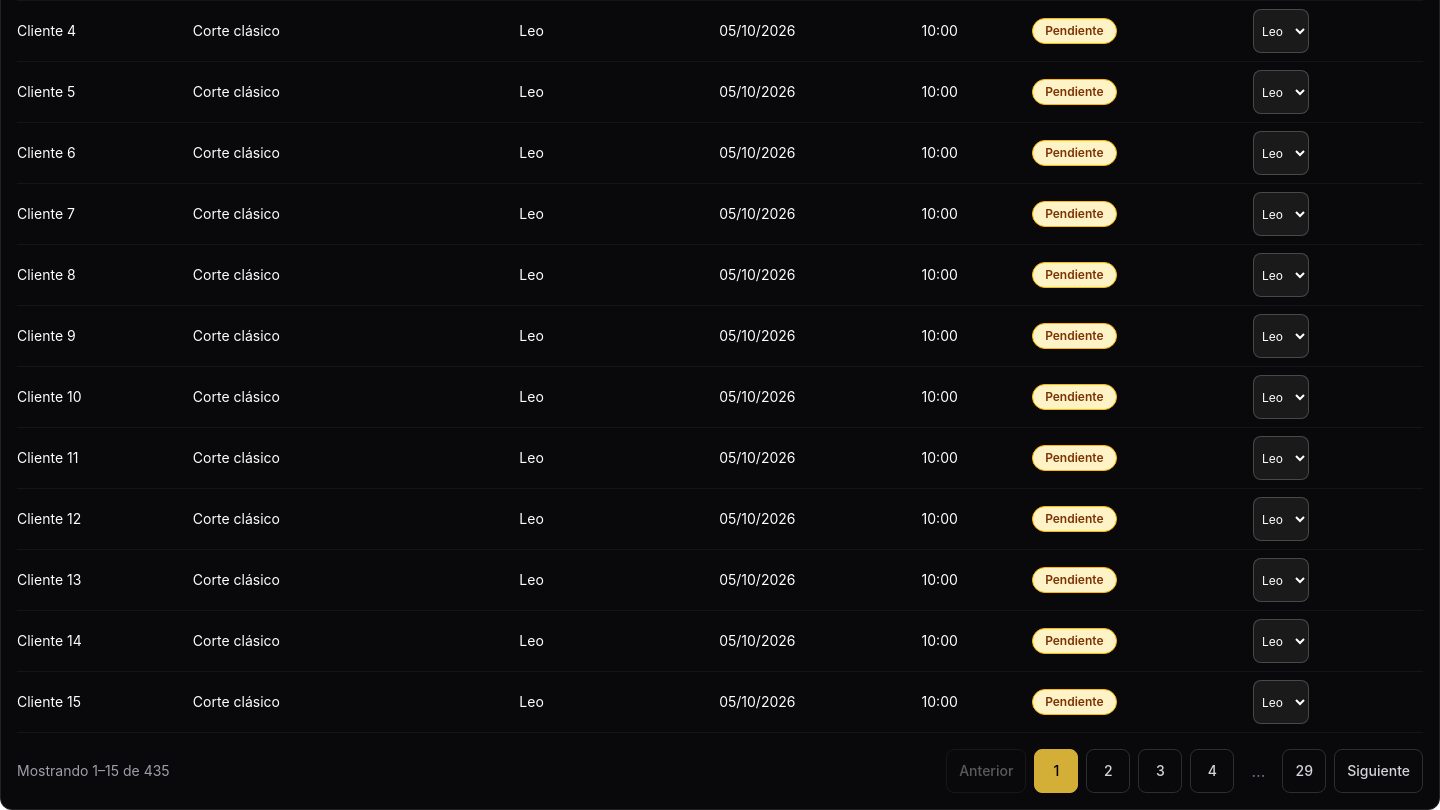
Test case: /admin/citas: paginación › Siguiente, Anterior y un número cambian de página, la guardan en la URL y piden esa página
(page scrolled)
Expected: the text "Mostrando 1–15 de 435" is shown, [17, 761, 170, 781]
Click the button "Siguiente" at coordinates (1379, 771), box [1334, 749, 1423, 793]
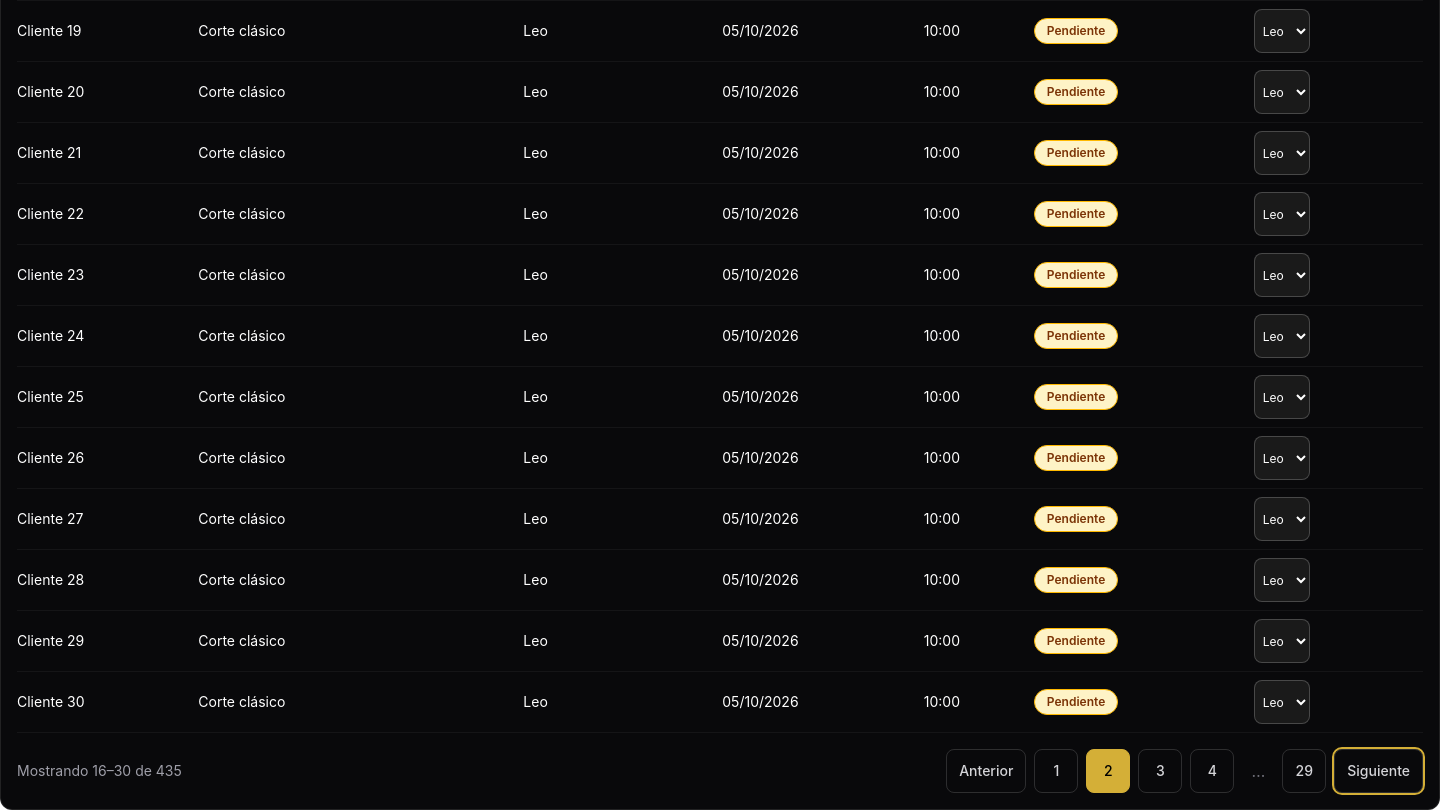
Result: the text "Mostrando 16–30 de 435" is shown at [17, 761, 182, 781]
Click the button "Anterior" at coordinates (986, 771), box [946, 749, 1026, 793]
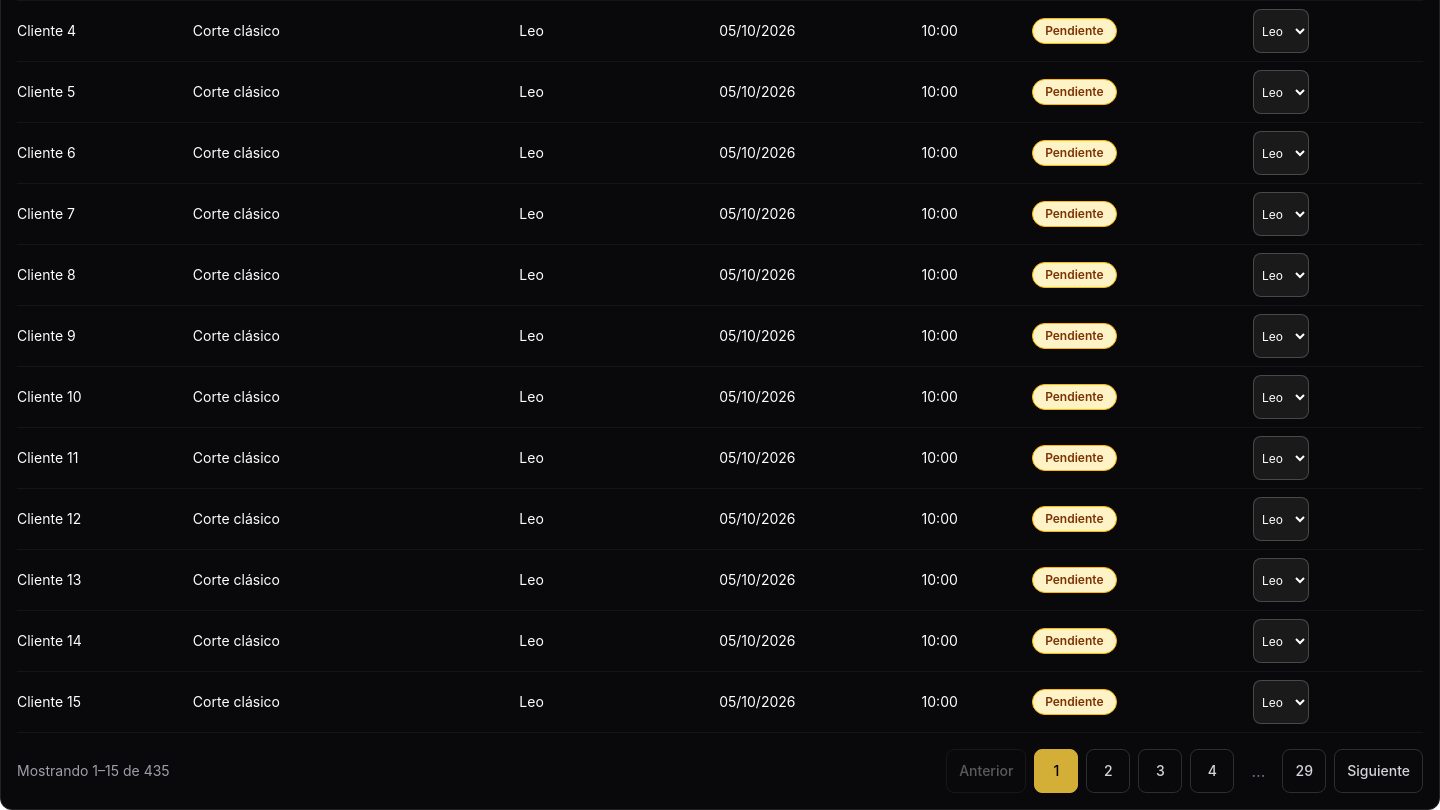
Result: the text "Mostrando 1–15 de 435" is shown at [17, 761, 170, 781]
Click the button named "Página 29" at coordinates (1304, 771), box [1282, 749, 1326, 793]
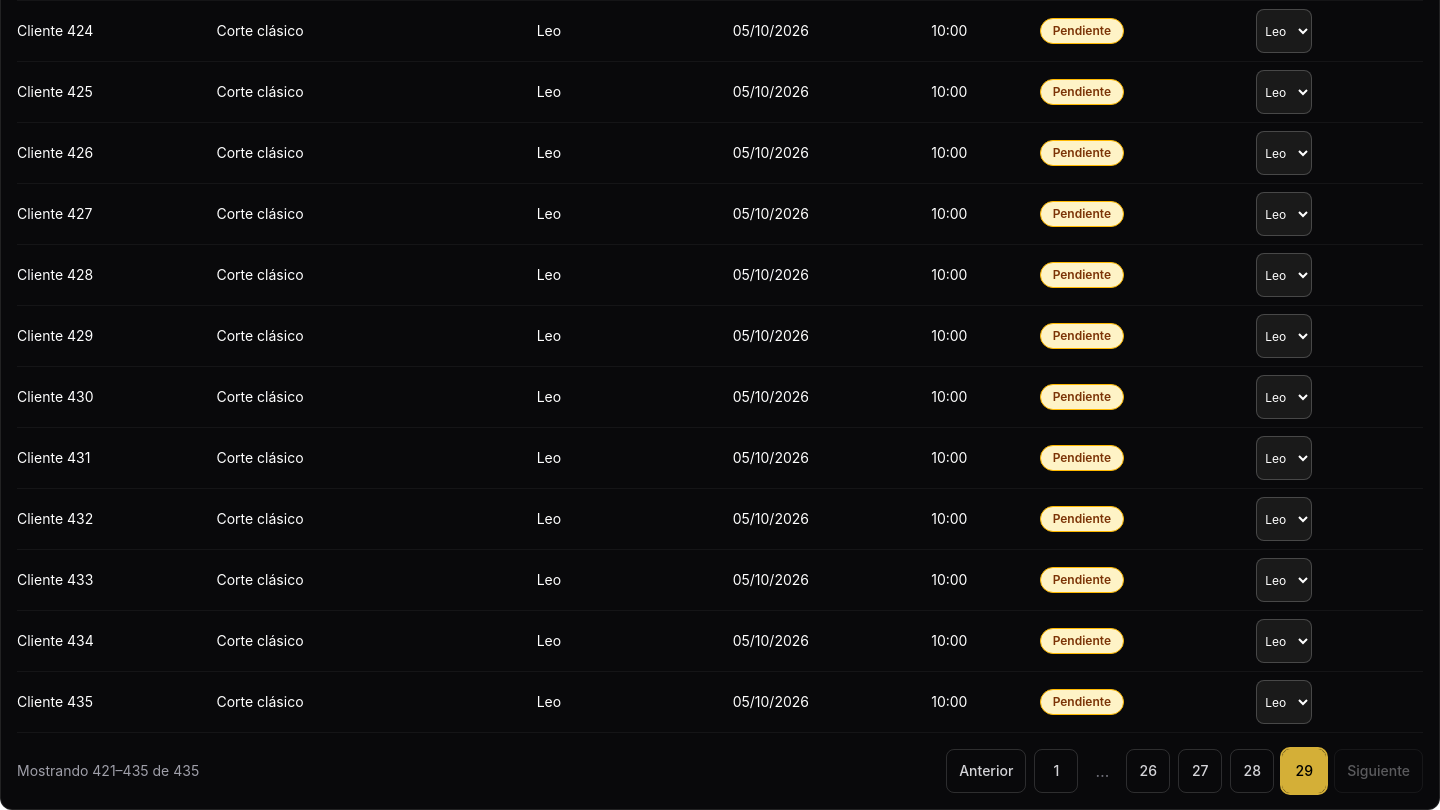
Result: the text "Mostrando 421–435 de 435" is shown at [17, 761, 199, 781]
Result: the button "Siguiente" is disabled at [1334, 749, 1423, 793]
